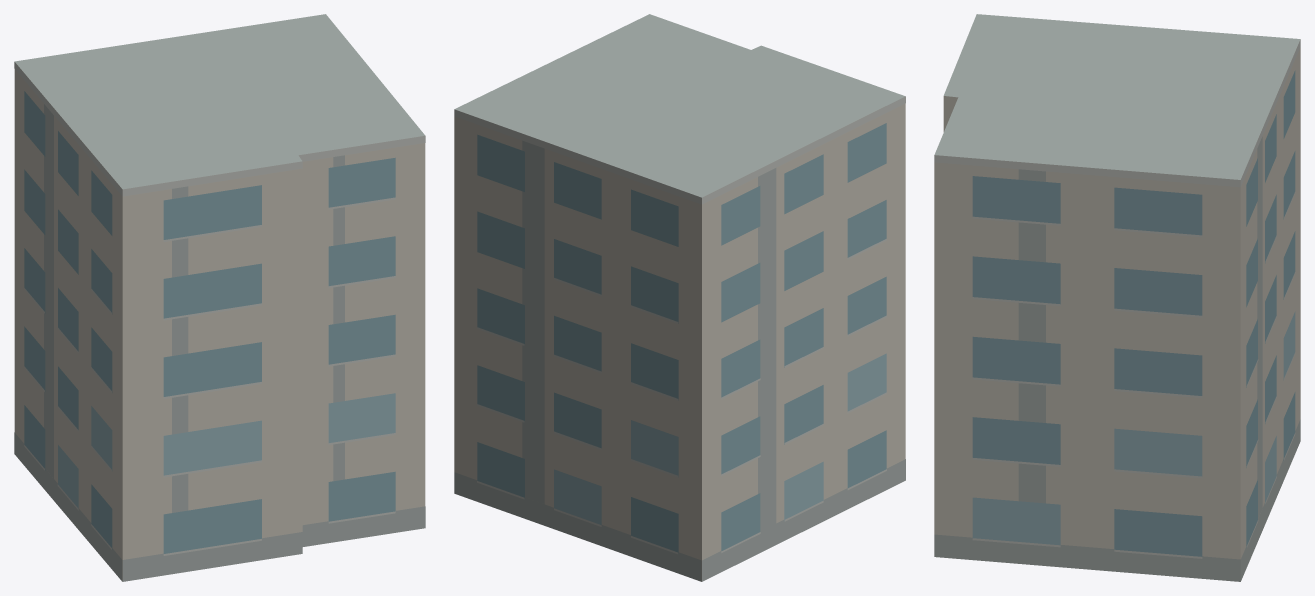
File: survey-upis-32800462.glb
The picture shows the model from 3 angles, left to right: view 1: azimuth 30°, elevation 25°; view 2: azimuth 150°, elevation 25°; view 3: azimuth 270°, elevation 25°; orthographic projection. The views are drawn at different scales.
Parts seen in each view (by area): view 1: survey-upis-32800462.tmp; view 2: survey-upis-32800462.tmp; view 3: survey-upis-32800462.tmp.
Part boxes in pixels (x1,y1,x2,y2): survey-upis-32800462.tmp: (14, 14, 425, 581); survey-upis-32800462.tmp: (454, 14, 905, 581); survey-upis-32800462.tmp: (934, 14, 1300, 581).
Bounding box in the file's own units: 11.84 × 13.35 × 11.04.
